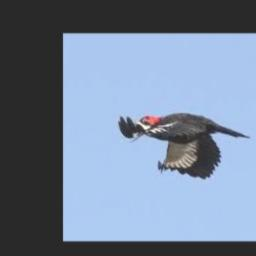Woodpecker: (119, 112, 251, 180)
